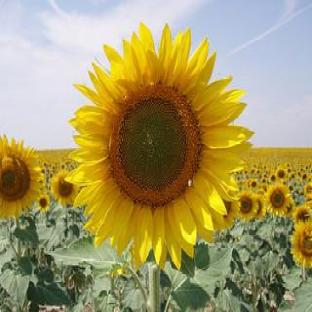sunflower: (63, 23, 254, 312)
